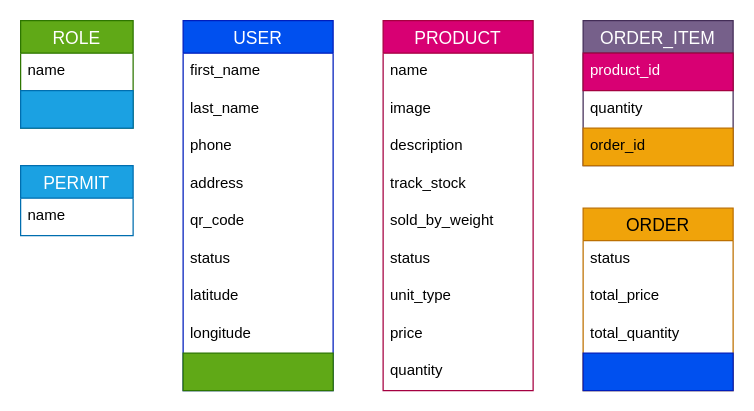
Some shapes in this 754 by 411 pixel diagram are drawn without their labels. The centre of each missing label's shape, as x and y in pixels:
"permit [ids]" goes at point 76,108.
"role_id" goes at point 257,371.
"user_id" goes at point 657,371.
